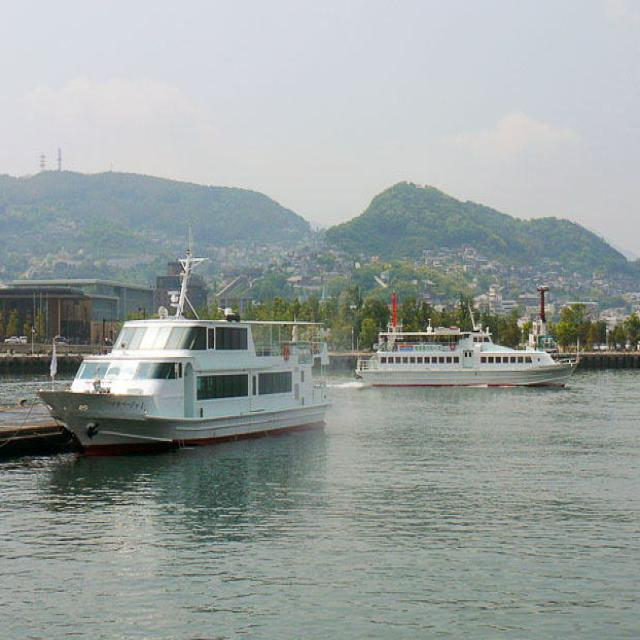houseboat: (55, 281, 314, 413), (362, 316, 570, 408)
